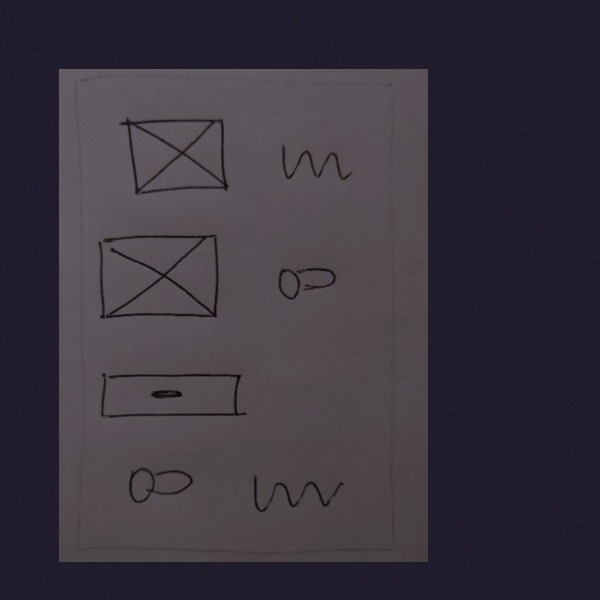button: (96, 366, 250, 426)
image: (92, 231, 224, 329), (113, 109, 236, 204)
switch: (120, 461, 197, 512), (273, 257, 340, 308)
text: (245, 467, 346, 520), (273, 136, 354, 191)
